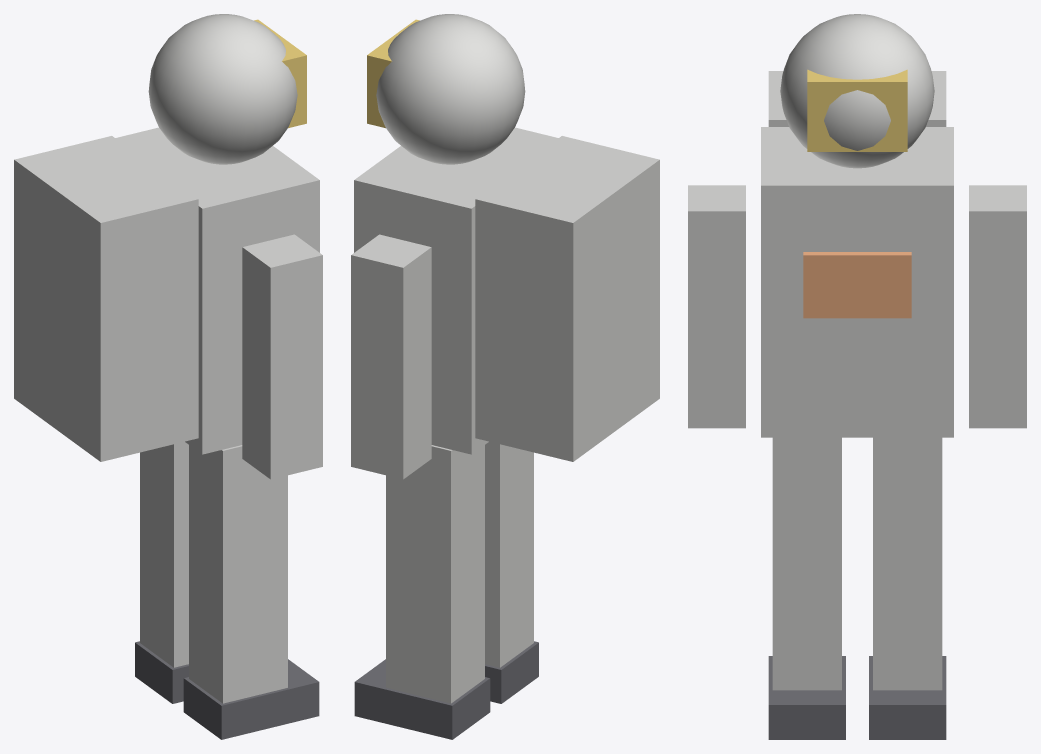
Rendered from astronaut.glb.
3 renders of one model, left to right at view 1: azimuth 30°, elevation 25°; view 2: azimuth 150°, elevation 25°; view 3: azimuth 270°, elevation 25°, orthographic. The views are drawn at different scales.
Visible parts, largest first — view 1: rover; view 2: rover; view 3: rover.
Part boxes in pixels (x1,y1,x2,y2): rover: (14, 14, 322, 739); rover: (351, 14, 659, 739); rover: (688, 14, 1026, 739).
Size of the model in its own units: 0.71 by 1.98 by 0.878.
